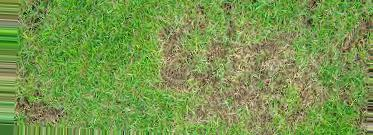patch: (183, 29, 289, 103), (24, 101, 77, 129), (304, 55, 331, 96)
